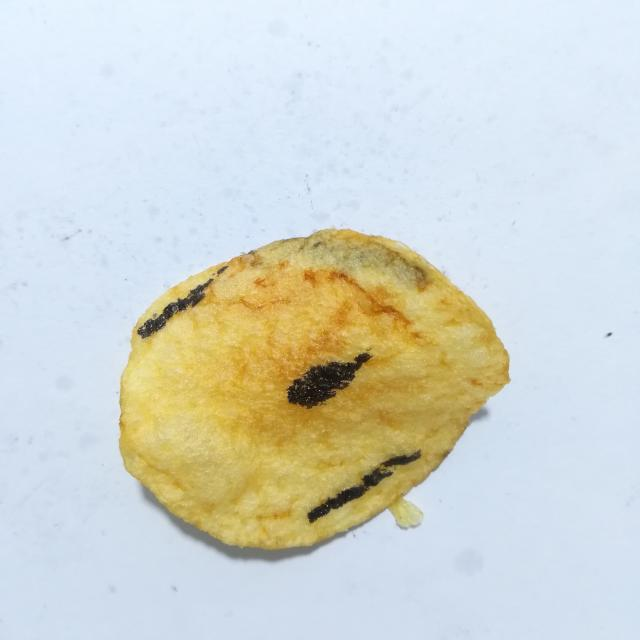chip: (119, 229, 509, 549)
damaged: (308, 450, 420, 523), (287, 353, 371, 409), (137, 278, 213, 339), (213, 265, 229, 277)
semi-damaged: (268, 229, 426, 286)
